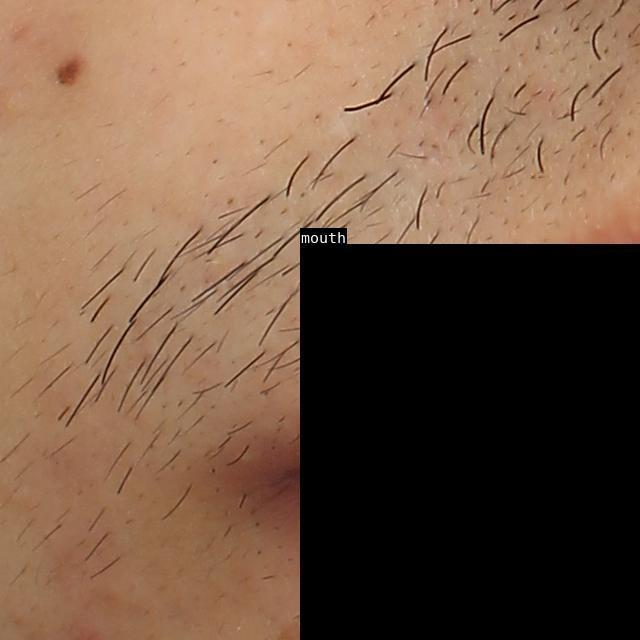nevus: (52, 50, 83, 83)
